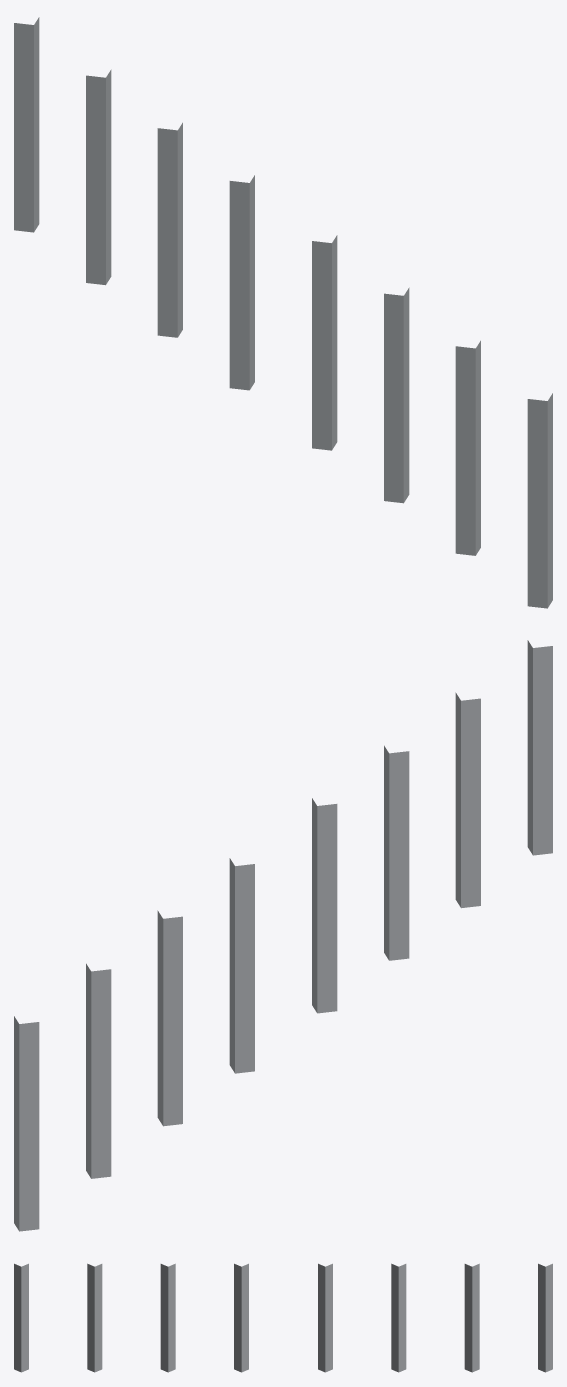
Rendered from kd_stage_135fe0_3_2.glb.
The picture shows the model from 3 angles, top to bottom: view 1: azimuth 30°, elevation 25°; view 2: azimuth 150°, elevation 25°; view 3: azimuth 270°, elevation 25°; orthographic projection. The views are drawn at different scales.
Visible parts, largest first — view 1: kd_stage_135fe0_3_2; view 2: kd_stage_135fe0_3_2; view 3: kd_stage_135fe0_3_2.
Boxes of the visible parts, x1,y1,x2,y2 form: kd_stage_135fe0_3_2: (14,17,552,608); kd_stage_135fe0_3_2: (14,640,552,1231); kd_stage_135fe0_3_2: (14,1263,552,1372).
Bounding box in the file's own units: 0.0711 × 0.5571 × 2.57.
Materials: 1 (1 with a texture image).
